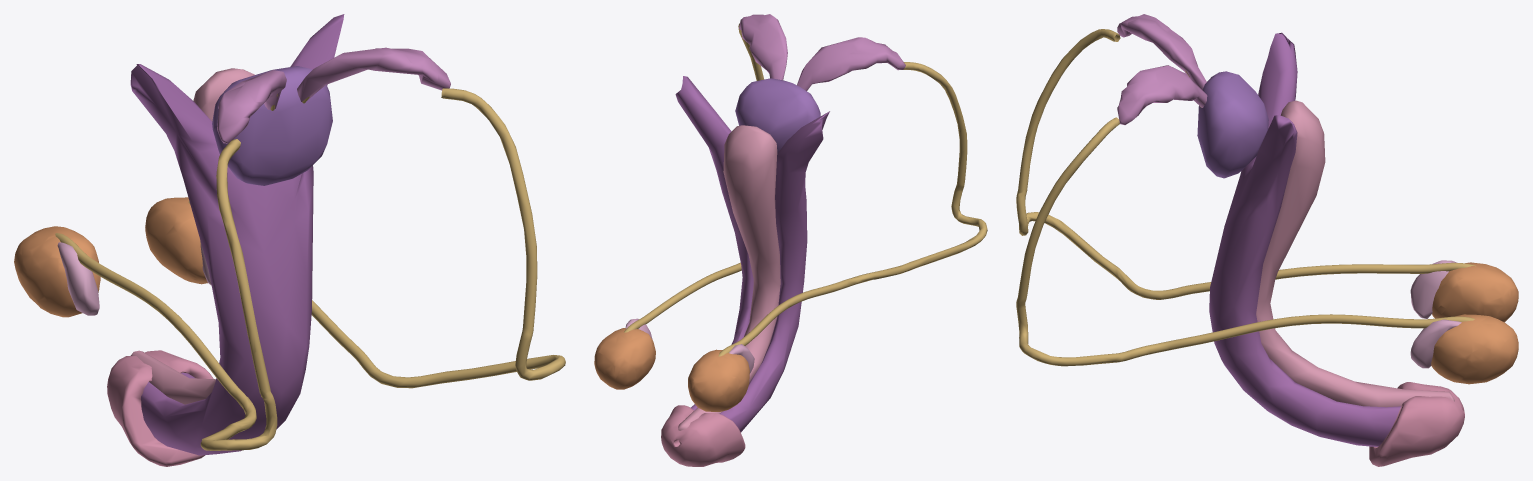
The model's file is reproductive.glb.
3 views of the same model, side by side, from view 1: azimuth 30°, elevation 25°; view 2: azimuth 150°, elevation 25°; view 3: azimuth 270°, elevation 25° (orthographic). The views are drawn at different scales.
Parts seen in each view (by area): view 1: 阴茎海绵体, 前列腺, 右侧输精管, 左侧输精管, 阴茎头, 右侧睾丸, 左侧睾丸, 左侧精囊, 尿道海绵体, 右侧精囊, 右侧附睾; view 2: 阴茎海绵体, 尿道海绵体, 右侧输精管, 前列腺, 阴茎头, 右侧睾丸, 左侧睾丸, 右侧精囊, 左侧精囊, 左侧输精管; view 3: 阴茎海绵体, 尿道海绵体, 左侧输精管, 右侧输精管, 前列腺, 阴茎头, 左侧睾丸, 右侧睾丸, 左侧精囊, 右侧精囊, 右侧附睾, 左侧附睾.
Boxes of the visible parts, <box> form: 阴茎海绵体: <box>130,14,344,455</box>; 前列腺: <box>212,66,332,185</box>; 右侧输精管: <box>55,139,277,450</box>; 左侧输精管: <box>188,88,565,388</box>; 阴茎头: <box>107,350,213,466</box>; 右侧睾丸: <box>14,226,100,317</box>; 左侧睾丸: <box>145,197,207,284</box>; 左侧精囊: <box>297,47,450,101</box>; 尿道海绵体: <box>130,68,254,404</box>; 右侧精囊: <box>217,70,286,143</box>; 右侧附睾: <box>57,242,99,315</box>; 阴茎海绵体: <box>675,76,829,432</box>; 尿道海绵体: <box>678,125,780,430</box>; 右侧输精管: <box>718,62,987,356</box>; 前列腺: <box>735,78,820,153</box>; 阴茎头: <box>661,405,745,466</box>; 右侧睾丸: <box>688,349,749,411</box>; 左侧睾丸: <box>594,328,655,389</box>; 右侧精囊: <box>797,37,905,90</box>; 左侧精囊: <box>739,14,787,80</box>; 左侧输精管: <box>624,23,764,332</box>; 阴茎海绵体: <box>1209,32,1400,446</box>; 尿道海绵体: <box>1256,100,1454,407</box>; 左侧输精管: <box>1016,117,1474,366</box>; 右侧输精管: <box>1016,29,1475,299</box>; 前列腺: <box>1197,71,1268,178</box>; 阴茎头: <box>1369,382,1464,466</box>; 左侧睾丸: <box>1431,314,1518,384</box>; 右侧睾丸: <box>1432,262,1518,322</box>; 左侧精囊: <box>1117,65,1207,124</box>; 右侧精囊: <box>1117,14,1206,89</box>; 右侧附睾: <box>1410,260,1457,318</box>; 左侧附睾: <box>1410,319,1461,368</box>.
Bounding box in the file's own units: 0.1655 × 0.2224 × 0.2438.
